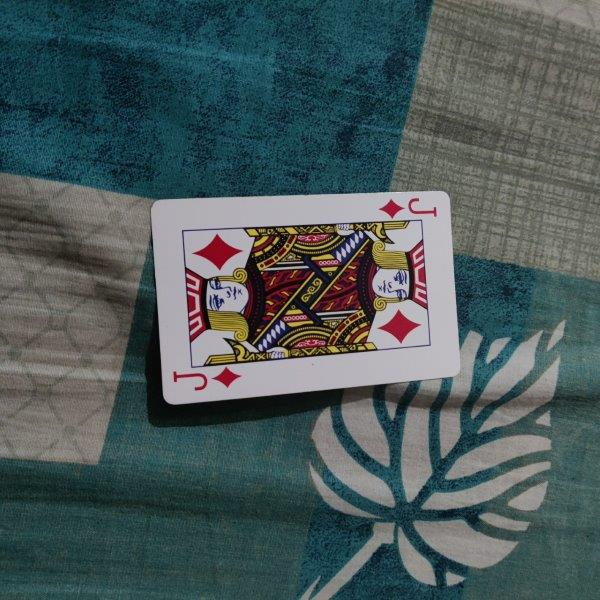Jack of Diamonds: (150, 190, 463, 406)
